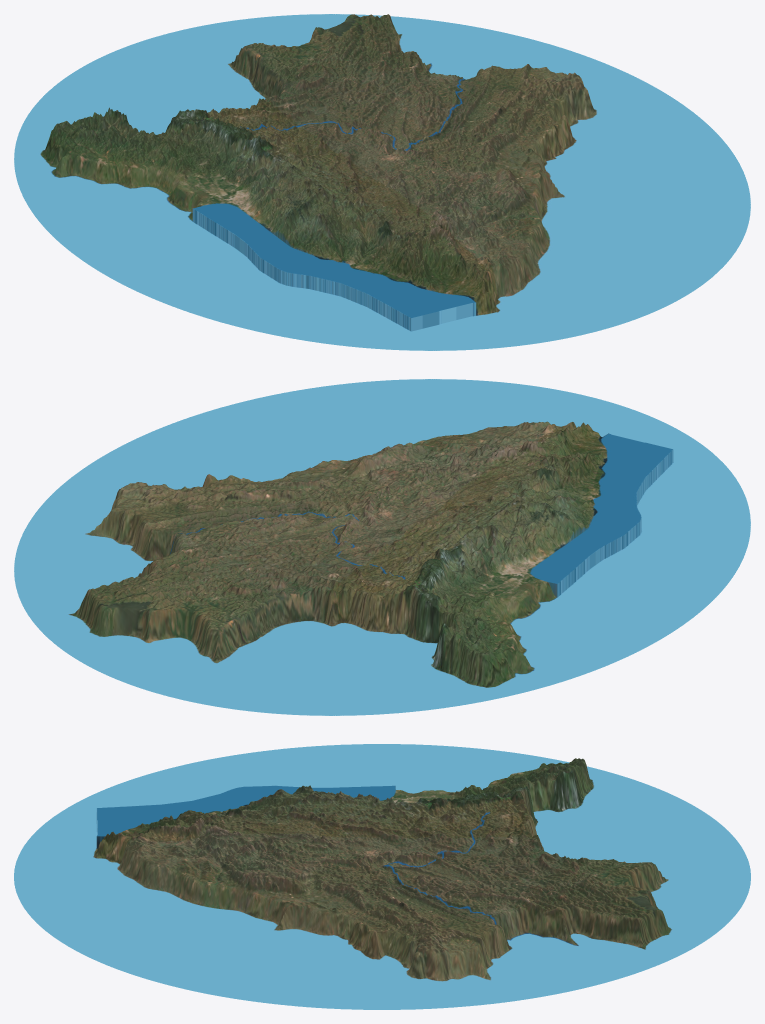
File: BDI-previa-terrain.glb
3 views of the same model, one above another, from view 1: azimuth 30°, elevation 25°; view 2: azimuth 150°, elevation 25°; view 3: azimuth 270°, elevation 25° (orthographic). The views are drawn at different scales.
Parts seen in each view (by area): view 1: Burundi; view 2: Burundi; view 3: Burundi.
Boxes of the visible parts, x1=… form: Burundi: x1=14, y1=14, x2=750, y2=350; Burundi: x1=14, y1=379, x2=750, y2=715; Burundi: x1=14, y1=744, x2=750, y2=1009.
Bounding box in the file's own units: 1.91 × 0.1354 × 2.24.
Materials: 1 (1 with a texture image).
